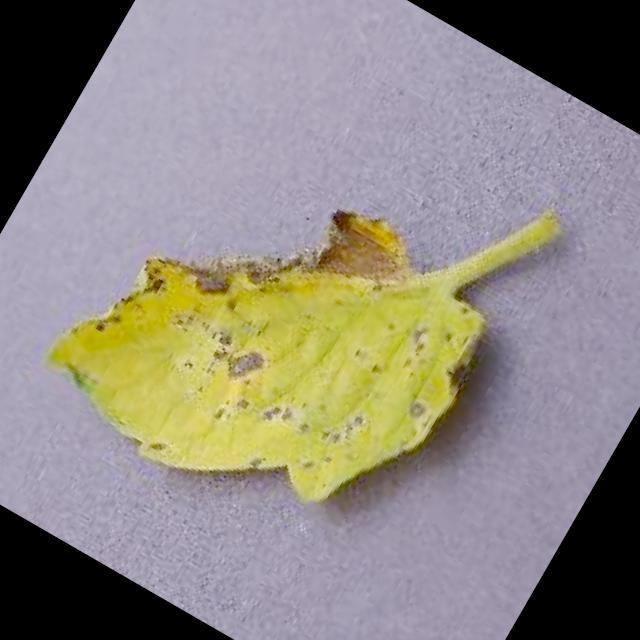Tomato Septoria spot leaf: (25, 106, 518, 580)
